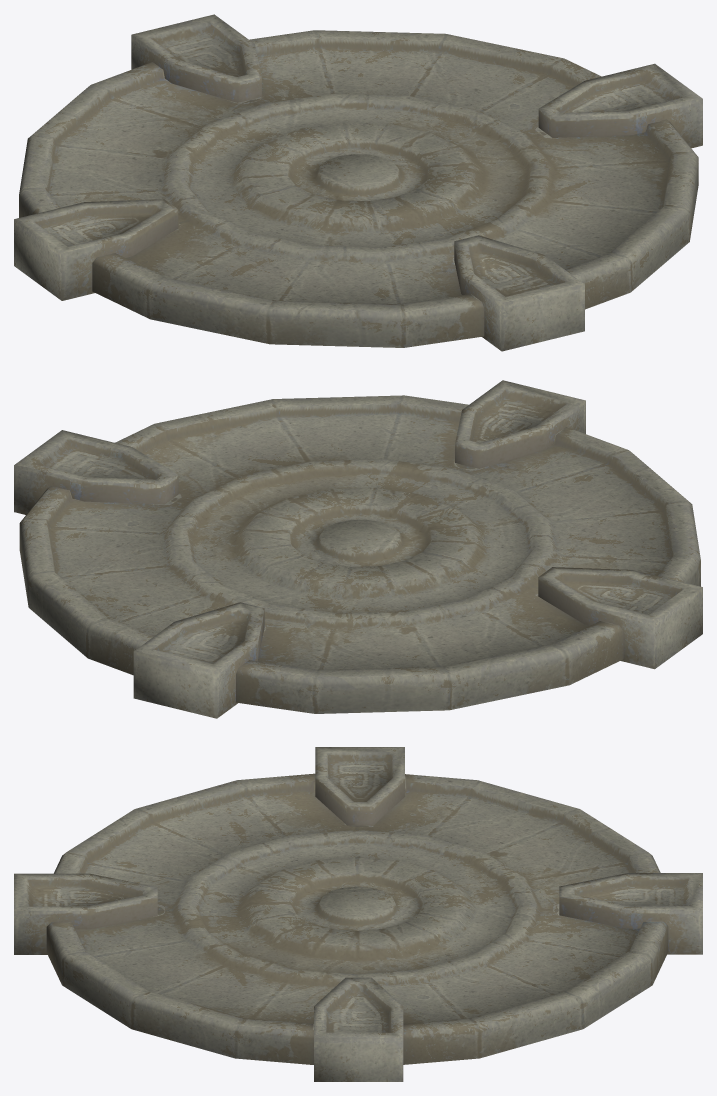
Rendered from AD_DecoTile_D_01.fbx.
3 views of the same model, one above another, from view 1: azimuth 30°, elevation 25°; view 2: azimuth 150°, elevation 25°; view 3: azimuth 270°, elevation 25° (orthographic). The views are drawn at different scales.
Visible parts, largest first — view 1: AD_DecoTile_D_01; view 2: AD_DecoTile_D_01; view 3: AD_DecoTile_D_01.
Part boxes in pixels (left/top/right/bottom): AD_DecoTile_D_01: left=14, top=14, right=702, bottom=351; AD_DecoTile_D_01: left=14, top=380, right=702, bottom=718; AD_DecoTile_D_01: left=14, top=747, right=702, bottom=1081.
Bounding box in the file's own units: 743 × 51.89 × 743.
1 material, 1 textured.
